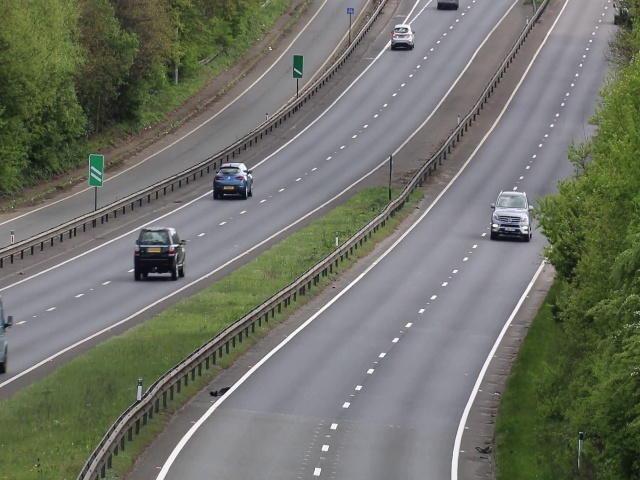car: (133, 223, 185, 280), (490, 188, 533, 243), (211, 159, 255, 200), (389, 21, 414, 49)
